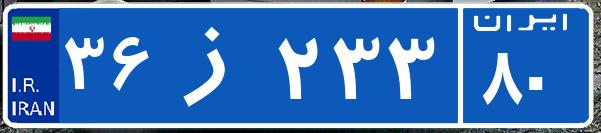0: (525, 38, 570, 115)
2: (273, 28, 330, 110)
3: (385, 28, 445, 110), (330, 28, 385, 110), (57, 26, 110, 107)
6: (110, 28, 158, 105)
8: (475, 38, 525, 113)
ز: (158, 15, 273, 115)
